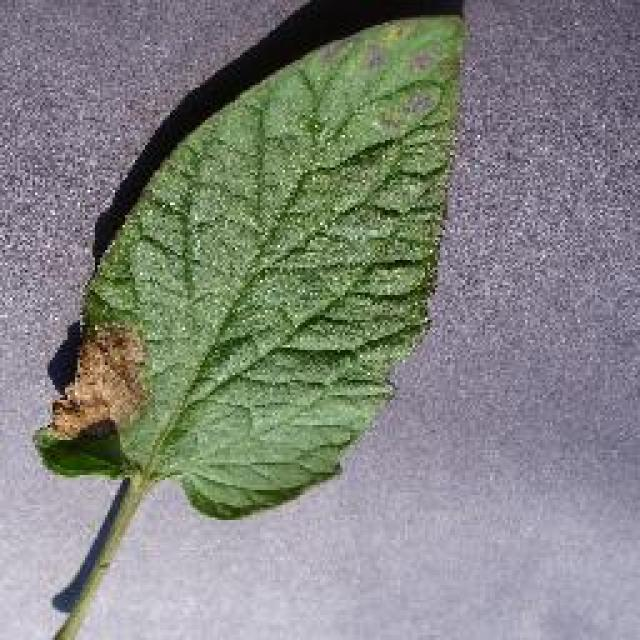Tomato___Late_blight: (32, 15, 462, 638)
